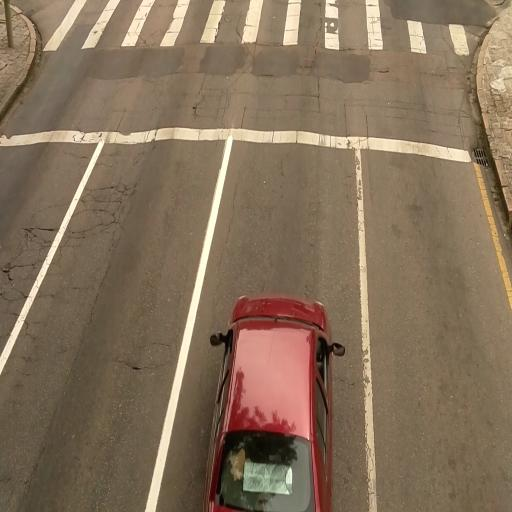car: (206, 290, 348, 506)
